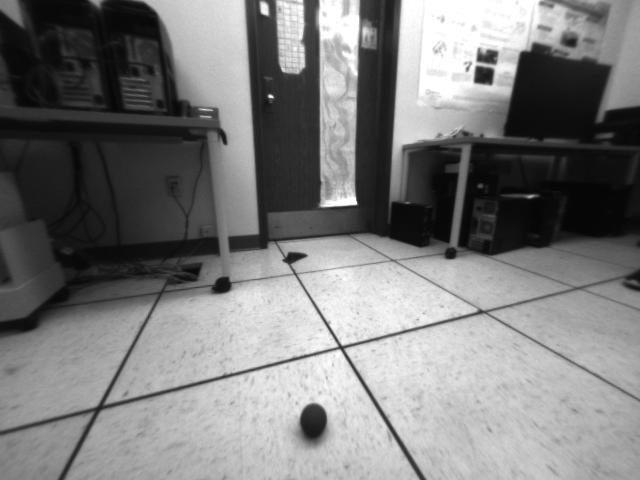dogtoy: (290, 394, 334, 446)
